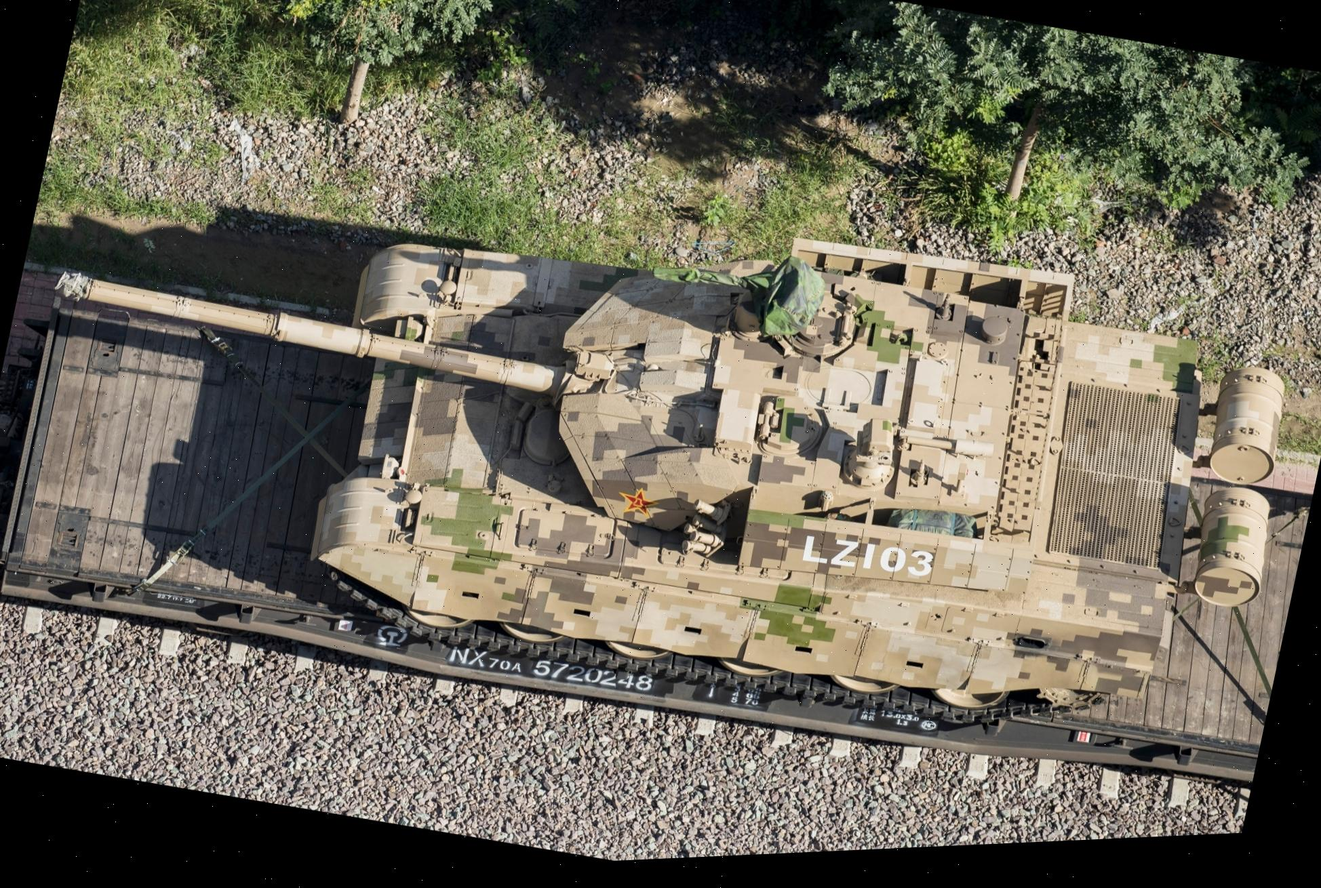tank: (0, 43, 1319, 843)
